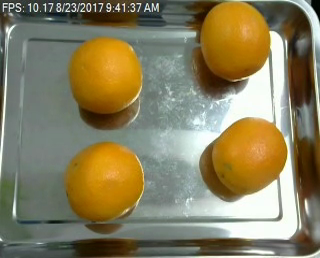Orange: (62, 140, 143, 222), (212, 116, 288, 195), (69, 37, 143, 114), (198, 1, 269, 81)
